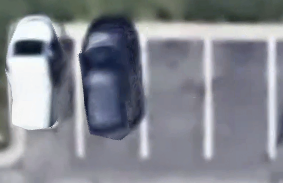Occupied: (12, 29, 81, 158), (81, 30, 144, 158)
Vacant: (143, 30, 209, 159), (208, 30, 274, 159)
